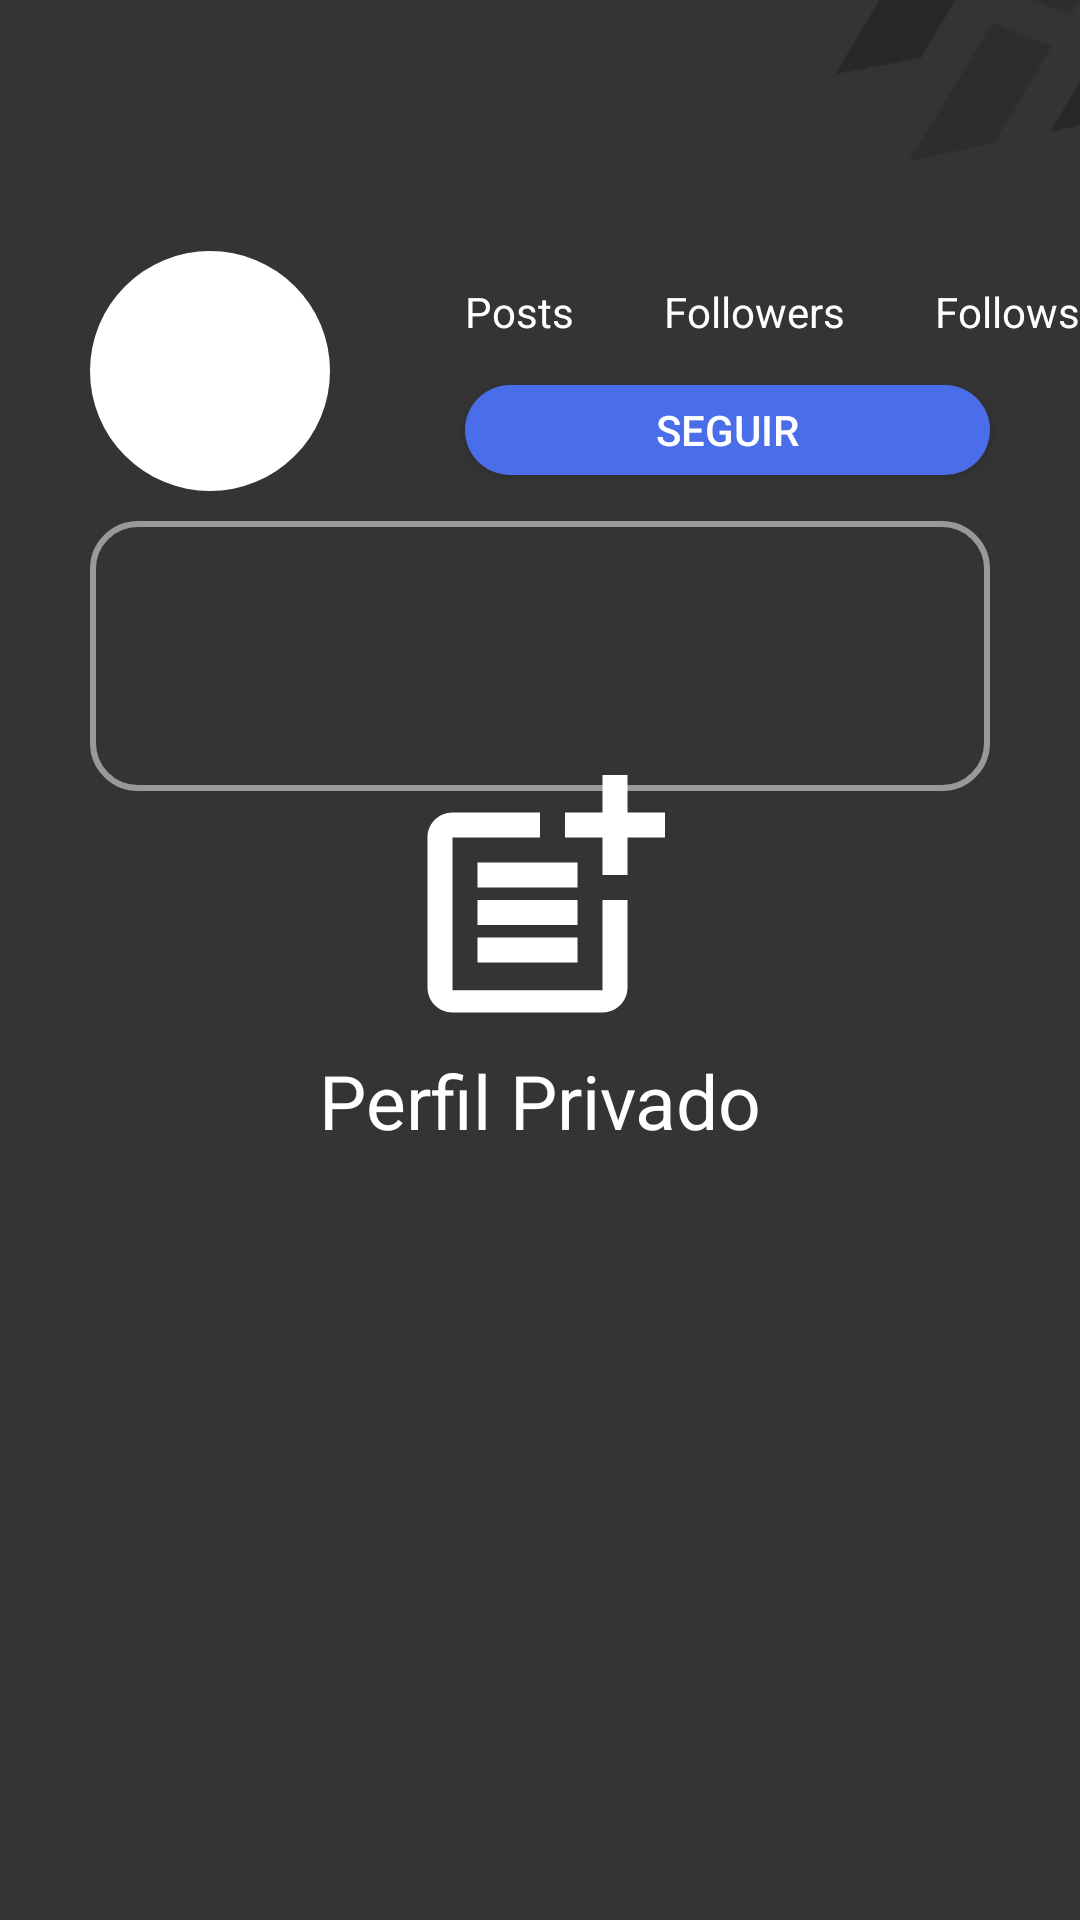

Where to tap for icons on this 1080px x 1920px app screen, as (x=x, y=y):
post add: (x=527, y=912)
